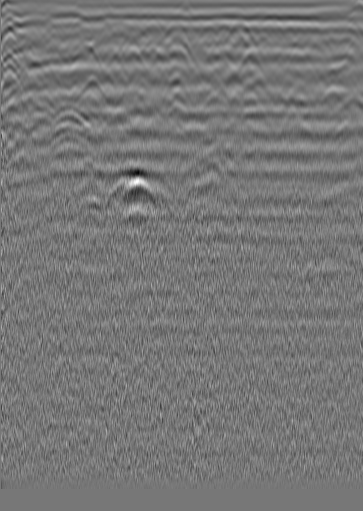가스: (122, 173, 158, 208)
상수: (302, 35, 322, 55)
오수: (25, 40, 45, 60)
우수: (163, 34, 183, 54)
